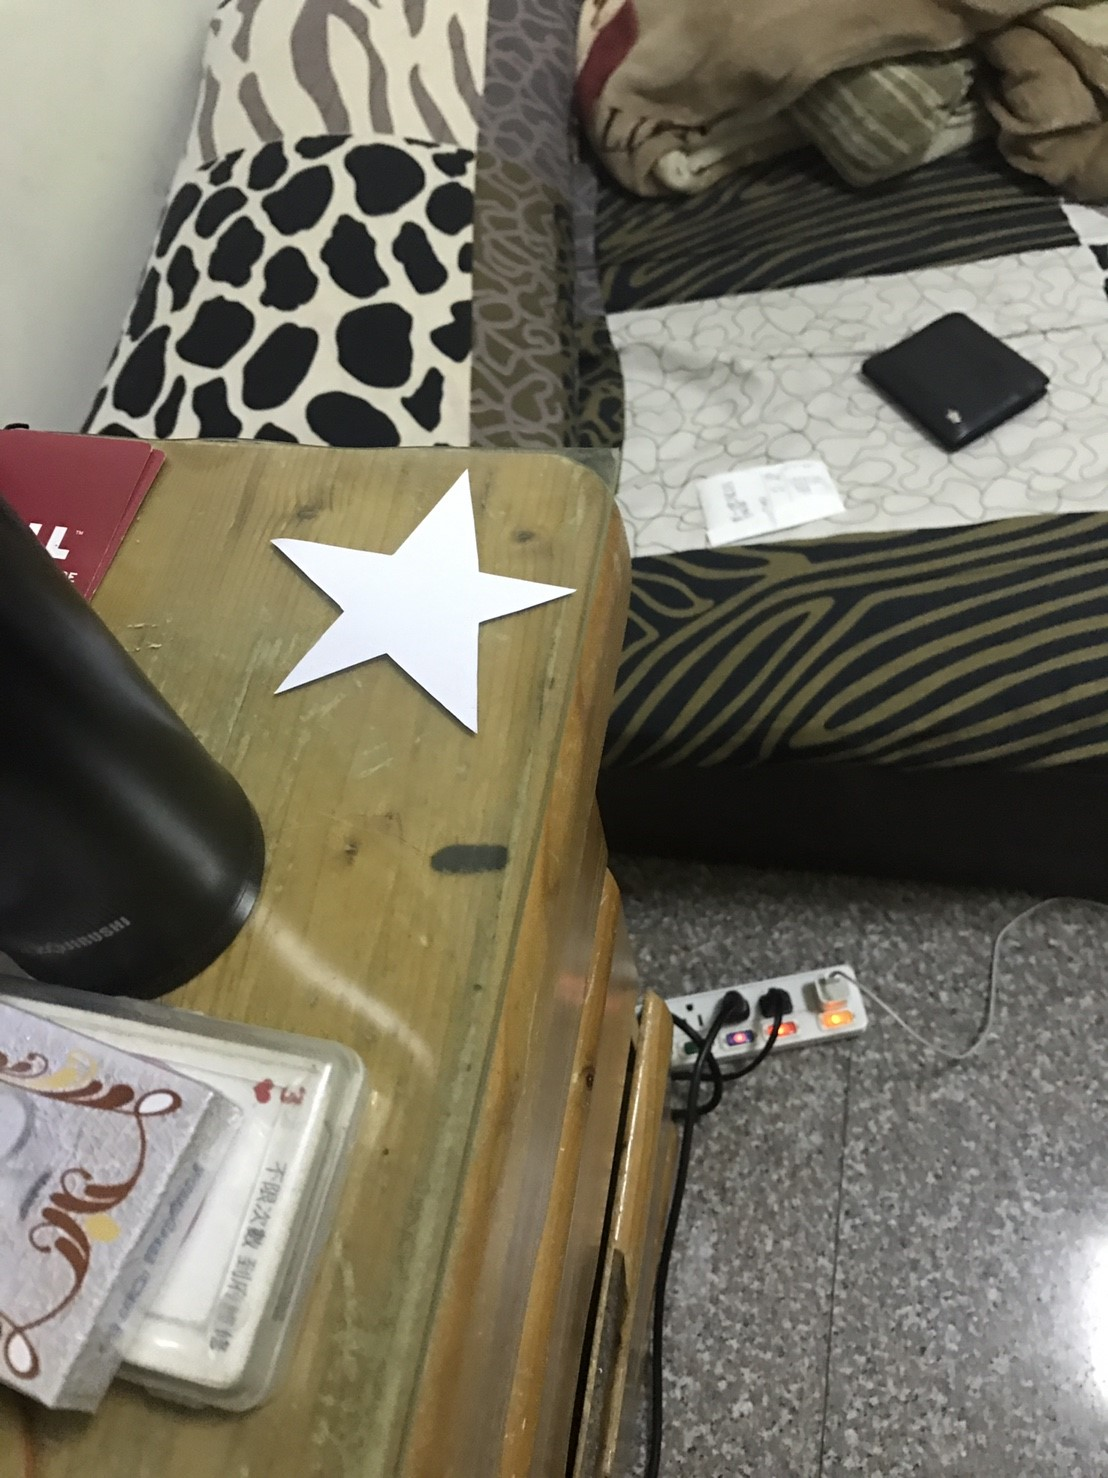star: (251, 459, 584, 783)
